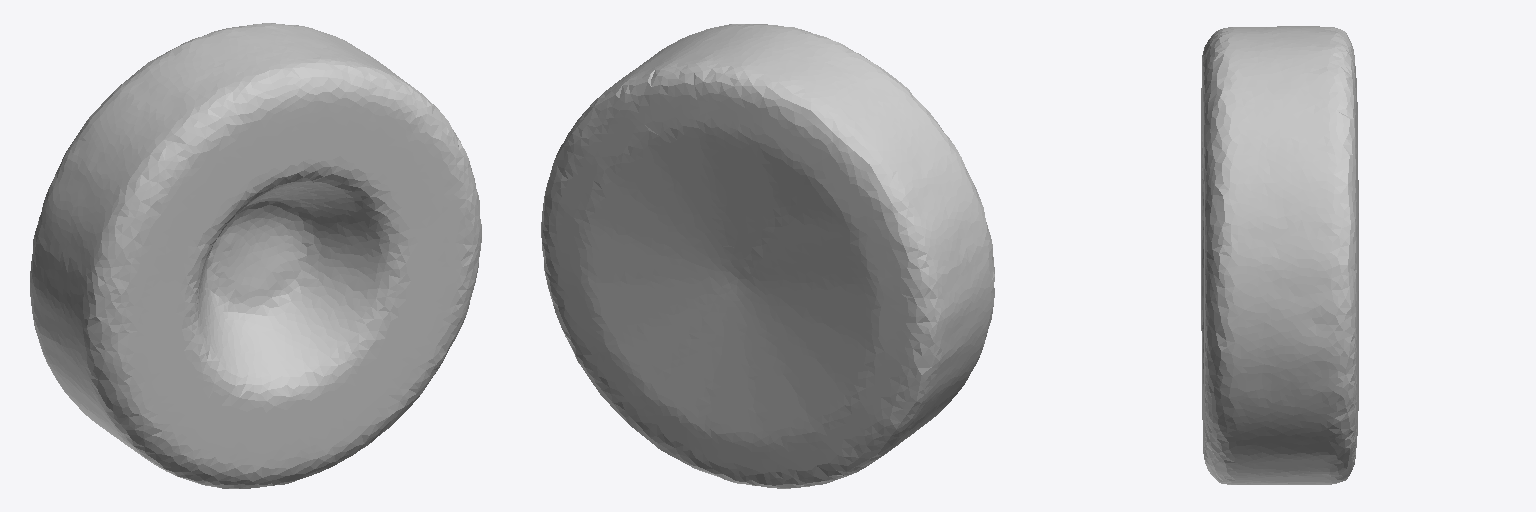
File: Amulet_July_Lobe_20.obj
3 renders of one model, left to right at view 1: azimuth 30°, elevation 25°; view 2: azimuth 150°, elevation 25°; view 3: azimuth 270°, elevation 25°, orthographic.
Bounding box in the file's own units: 20.05 × 19.99 × 6.88.